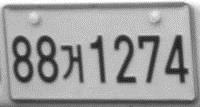1: (88, 33, 106, 83)
2: (112, 33, 137, 84)
4: (164, 33, 190, 83)
7: (137, 34, 160, 83)
8: (35, 35, 58, 82), (11, 34, 33, 82)
거: (60, 44, 83, 83)
